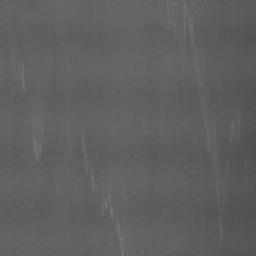Silk spot: (72, 147, 85, 168), (221, 139, 228, 168), (203, 149, 210, 167), (42, 148, 50, 161), (186, 28, 190, 48)
